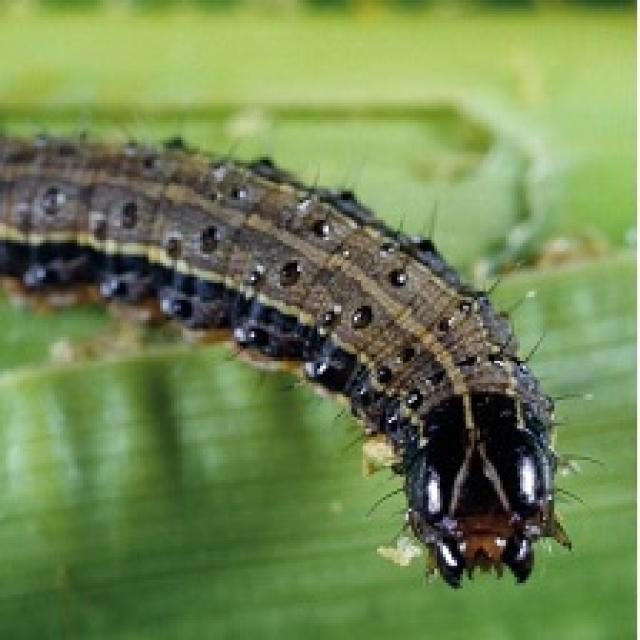Fall-armyworm: (3, 91, 605, 602)
